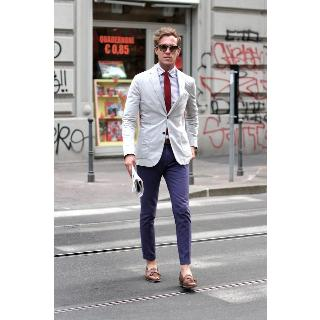loafers: (139, 256, 163, 288), (177, 260, 199, 294)
